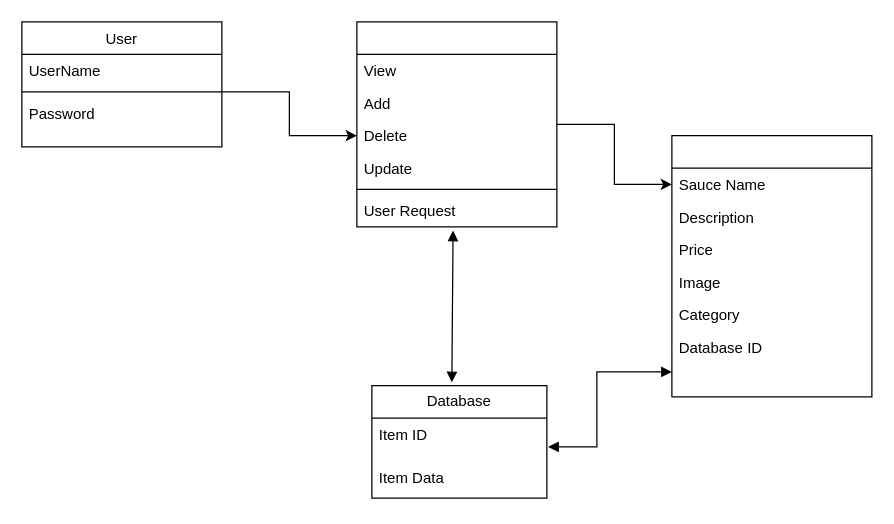
The diagram is 894 pixels wide and 524 high, and some of its shapes have lost their labels. The box of each missing label's shape, as (x1, y1, x2, y2) in pixels:
Front End View: (356, 21, 557, 227)
Item: (671, 134, 872, 397)
